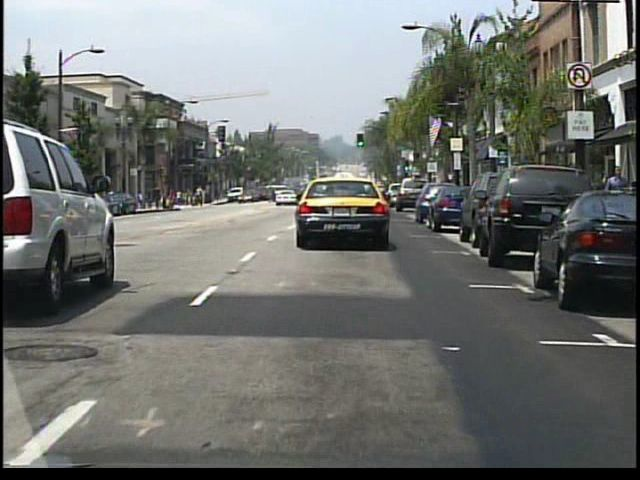person: (603, 163, 628, 236), (202, 190, 210, 207)
